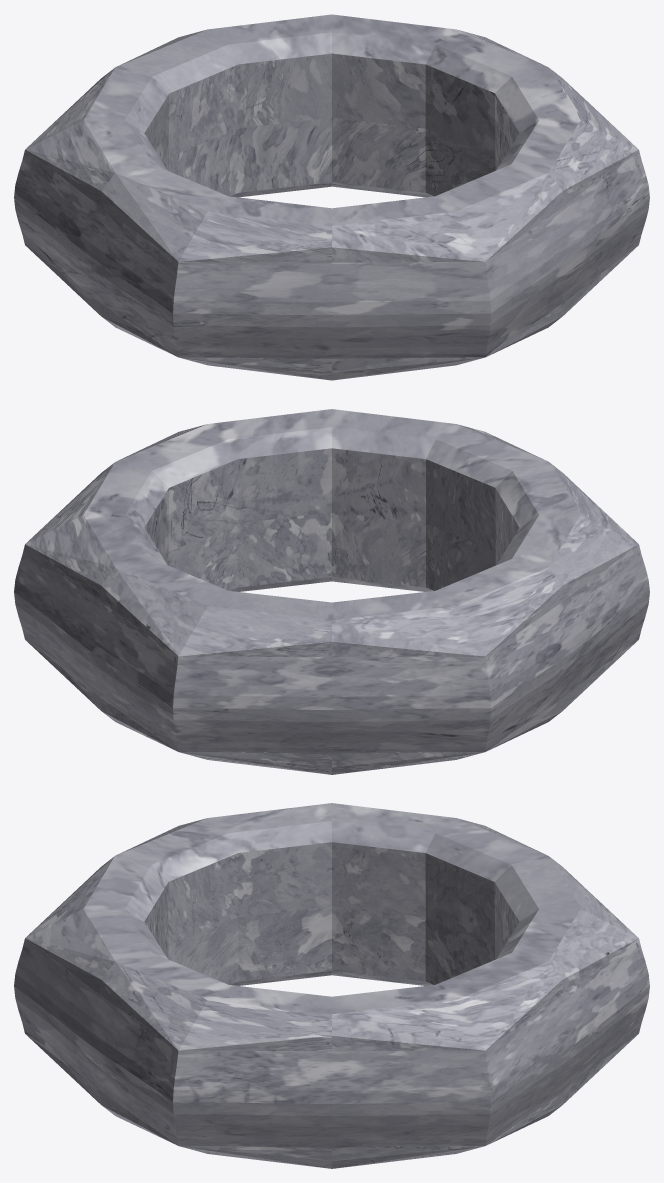
File: Gaik2_LowPoly.fbx
3 renders of one model, top to bottom at view 1: azimuth 30°, elevation 25°; view 2: azimuth 150°, elevation 25°; view 3: azimuth 270°, elevation 25°, orthographic.
Parts seen in each view (by area): view 1: LowPoly; view 2: LowPoly; view 3: LowPoly.
Part boxes in pixels (x1,y1,x2,y2): LowPoly: (14, 14, 649, 380); LowPoly: (14, 409, 649, 774); LowPoly: (14, 803, 649, 1168).
Bounding box in the file's own units: 49.29 × 15.06 × 56.13.
Materials: 1 (1 with a texture image).
